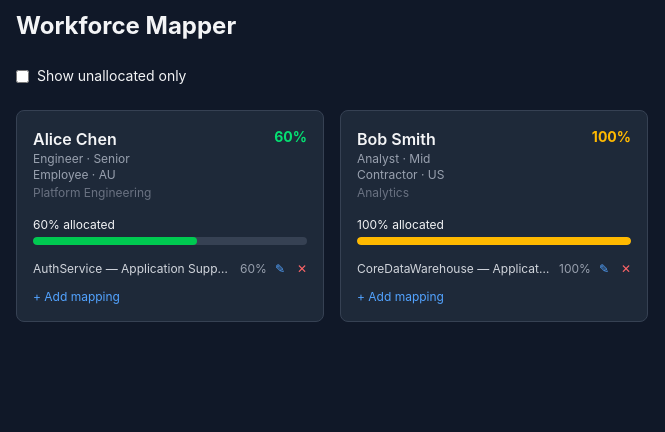
MappingView › shows reason-specific toast when cap exceeded on add
The image size is (665, 432).
Expected: the text "Alice Chen" is shown, [33,129,117,149]
Step 1. Click the button "+ Add mapping" below "AuthService — Application Support" → click(76, 296), box [33,289,307,305]
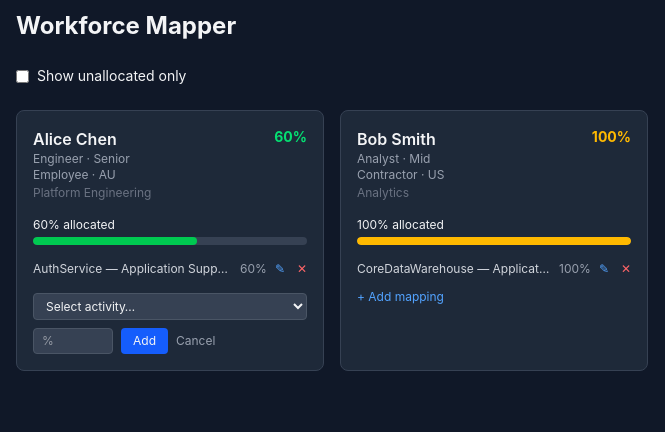
Step 2. Select "CoreDataWarehouse — Application Support" in the dropdown → (170, 306), box [33,293,307,320]
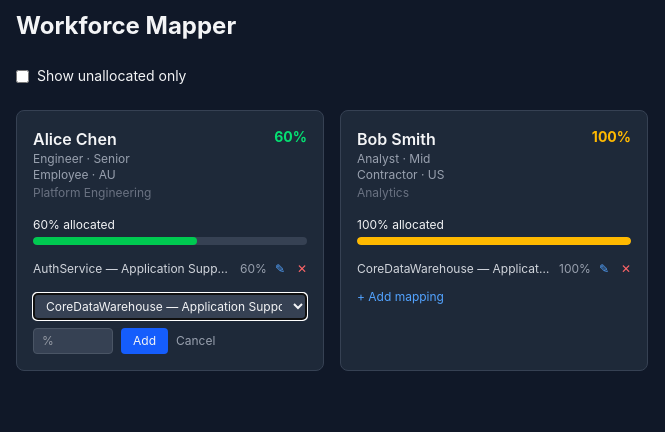
Step 3. Type "50" into the number field with placeholder "%" → (73, 341), box [33,328,113,354]
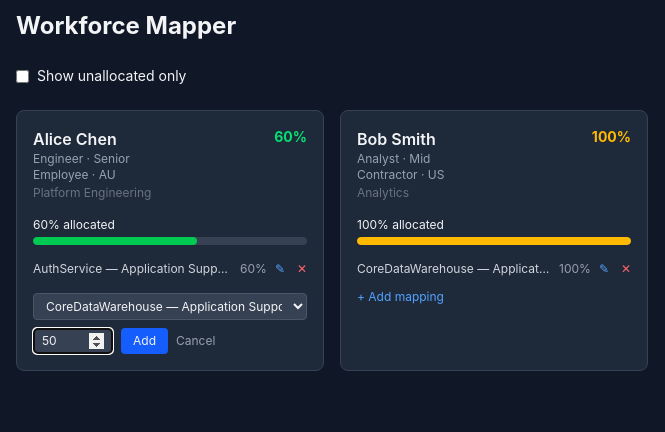
Step 4. Click the button "Add" → click(144, 341), box [121,328,168,354]
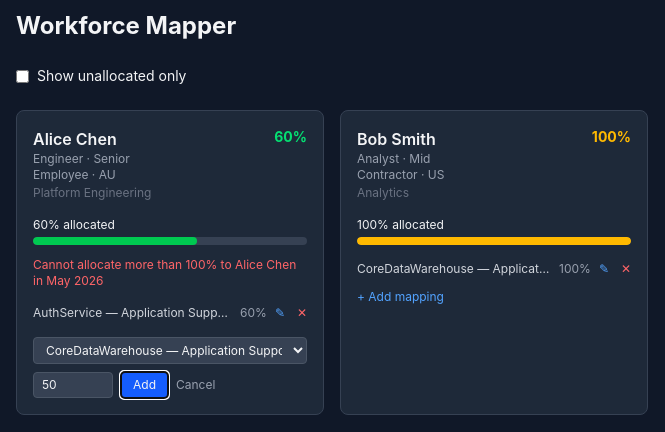
Expected: the text "Cannot allocate more than 100% to Alice Chen in May 2026" is shown, [33,257,307,289]
